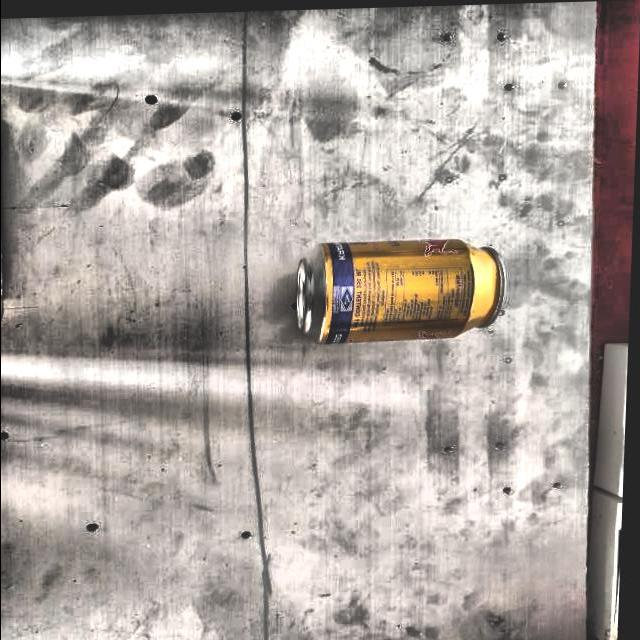Aluminum Can: (286, 234, 512, 339)
